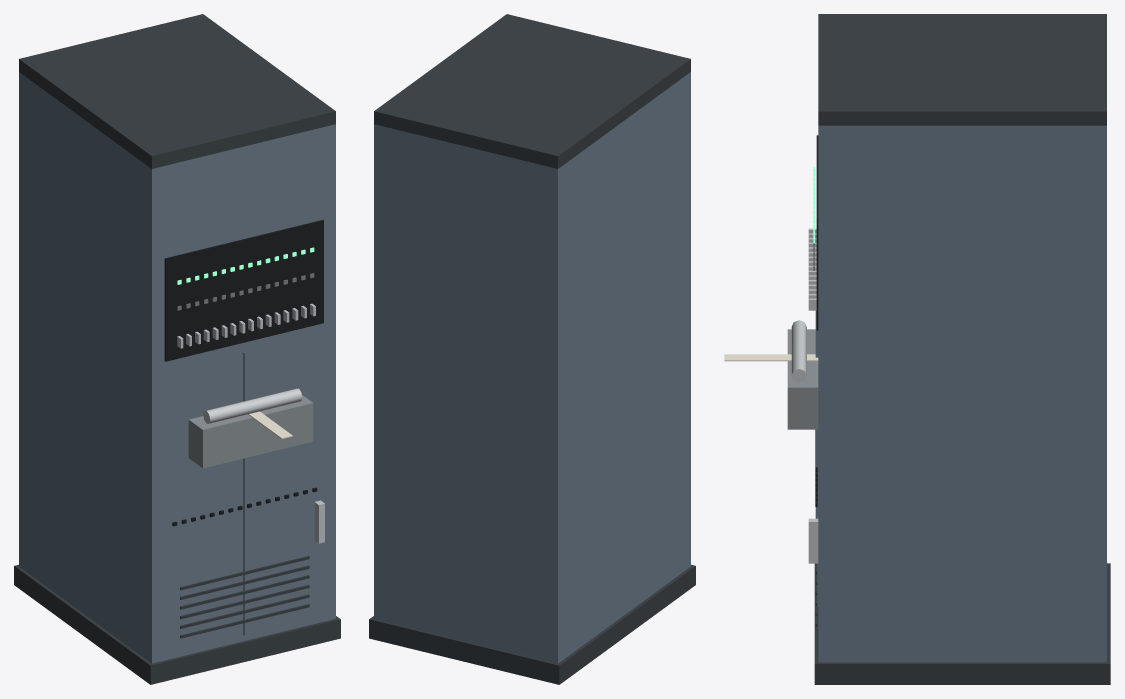
The model's file is tip-316.glb.
3 views of the same model, side by side, from view 1: azimuth 30°, elevation 25°; view 2: azimuth 150°, elevation 25°; view 3: azimuth 270°, elevation 25° (orthographic). The views are drawn at different scales.
Visible parts, largest first — view 1: kit-ps-tip, DOOR; view 2: kit-ps-tip; view 3: kit-ps-tip.
Boxes of the visible parts, box(x1,y1,x2,y2) form: kit-ps-tip: box(14, 14, 340, 684); DOOR: box(243, 352, 245, 635); kit-ps-tip: box(369, 14, 695, 684); kit-ps-tip: box(724, 14, 1110, 684).
Bounding box in the file's own units: 0.62 × 1.64 × 1.
